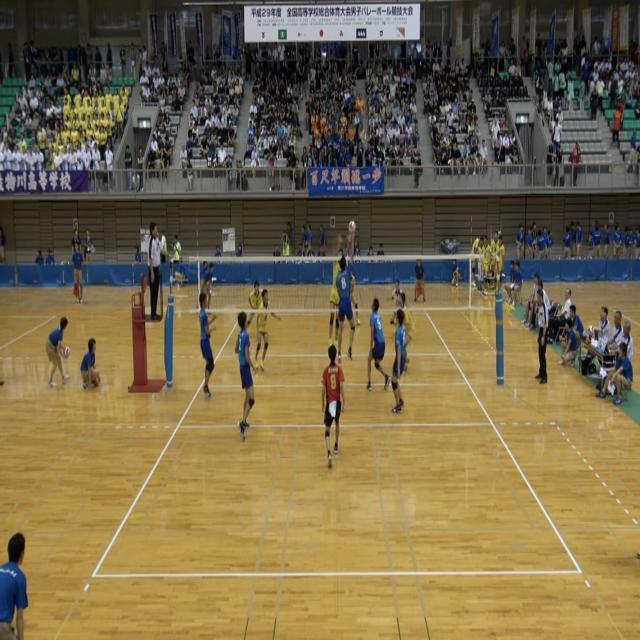spike: (333, 217, 360, 366)
